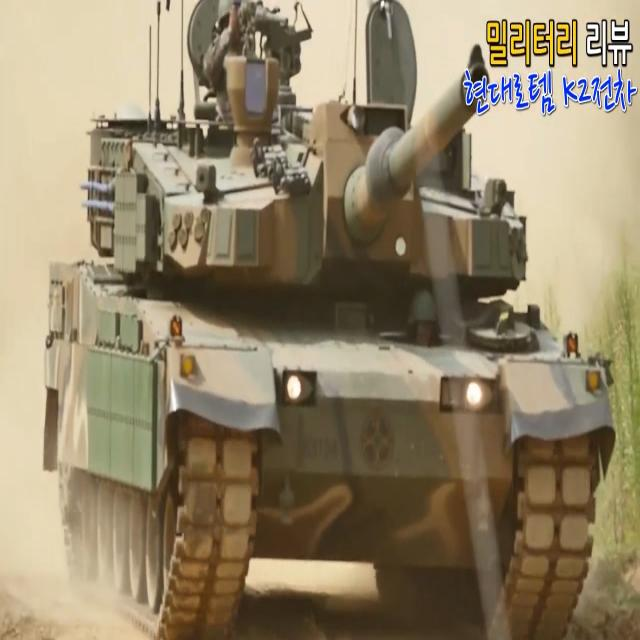korea tank: (43, 1, 615, 640)
